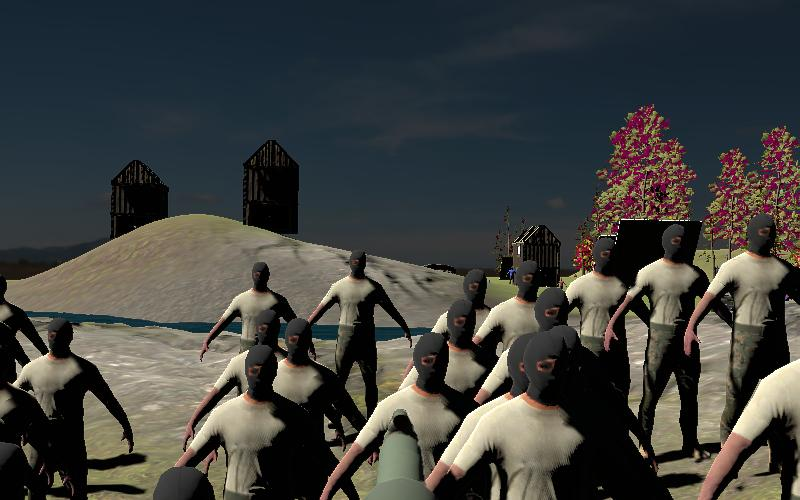Human: (598, 214, 728, 470), (421, 322, 602, 500), (679, 212, 800, 455), (172, 338, 337, 499), (313, 326, 465, 500), (2, 310, 138, 497), (686, 291, 800, 500), (299, 246, 416, 439), (187, 257, 302, 397), (0, 264, 54, 408)
